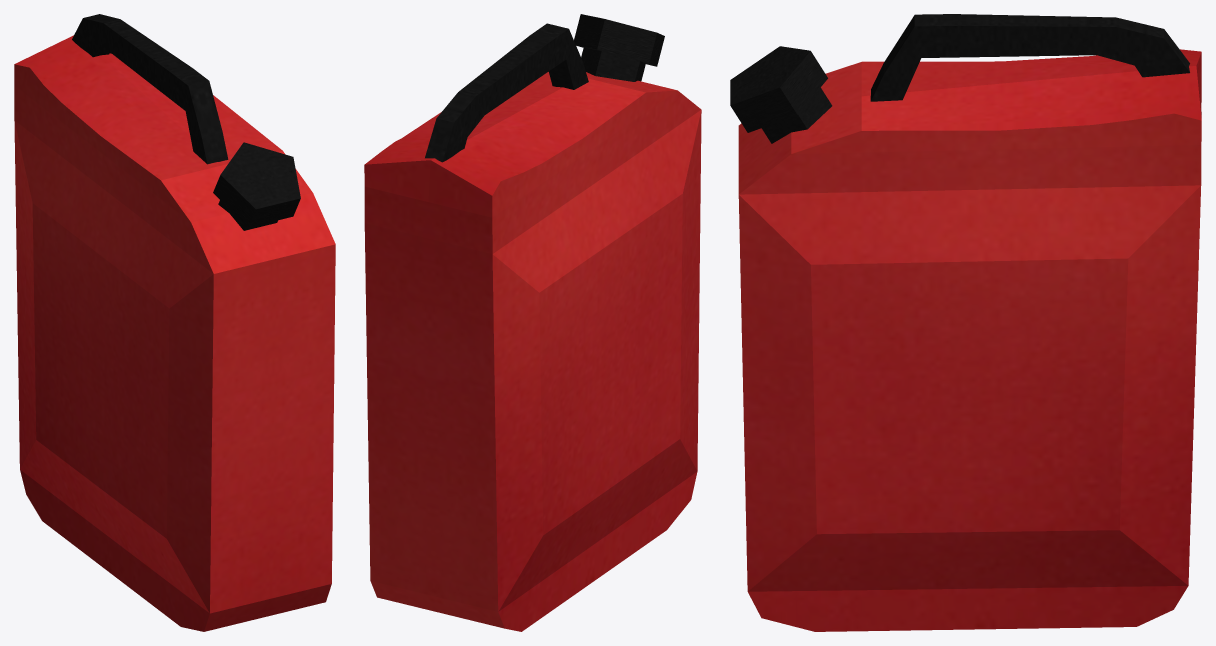
The model's file is GasCan.fbx.
3 renders of one model, left to right at view 1: azimuth 30°, elevation 25°; view 2: azimuth 150°, elevation 25°; view 3: azimuth 270°, elevation 25°, orthographic. The views are drawn at different scales.
Parts seen in each view (by area): view 1: Cube; view 2: Cube; view 3: Cube.
Boxes of the visible parts, left/top/right/bottom form: Cube: left=14, top=14, right=335, bottom=631; Cube: left=364, top=14, right=701, bottom=631; Cube: left=730, top=14, right=1201, bottom=631.
Size of the model in its own units: 244 by 780 by 577.
1 material, 1 textured.
